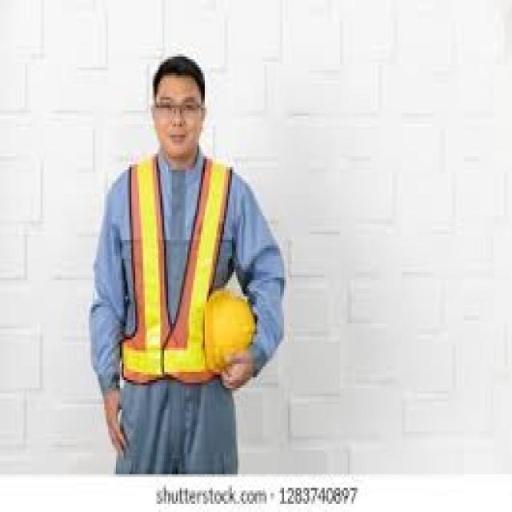helmet: (202, 286, 256, 374)
vest: (106, 146, 256, 388)
